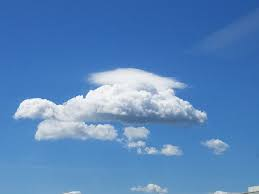Cumulus: (15, 58, 230, 161)
